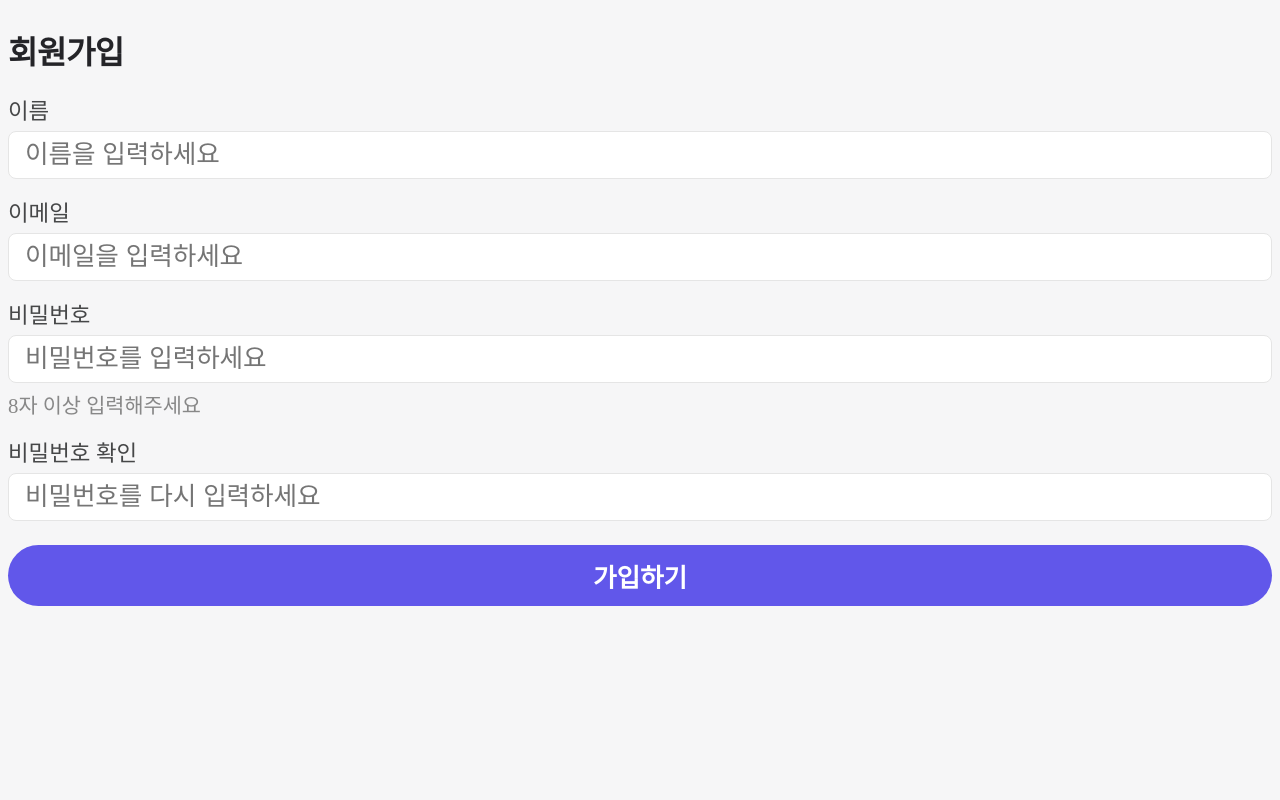
Test: RegisterForm › 비밀번호가 일치하지 않으면 에러를 표시하고 제출을 차단한다
The width and height of the screenshot is (1280, 800).
Type "테스트" into the field labelled "이름". click: x=640, y=154
box: [8,130,1272,178]
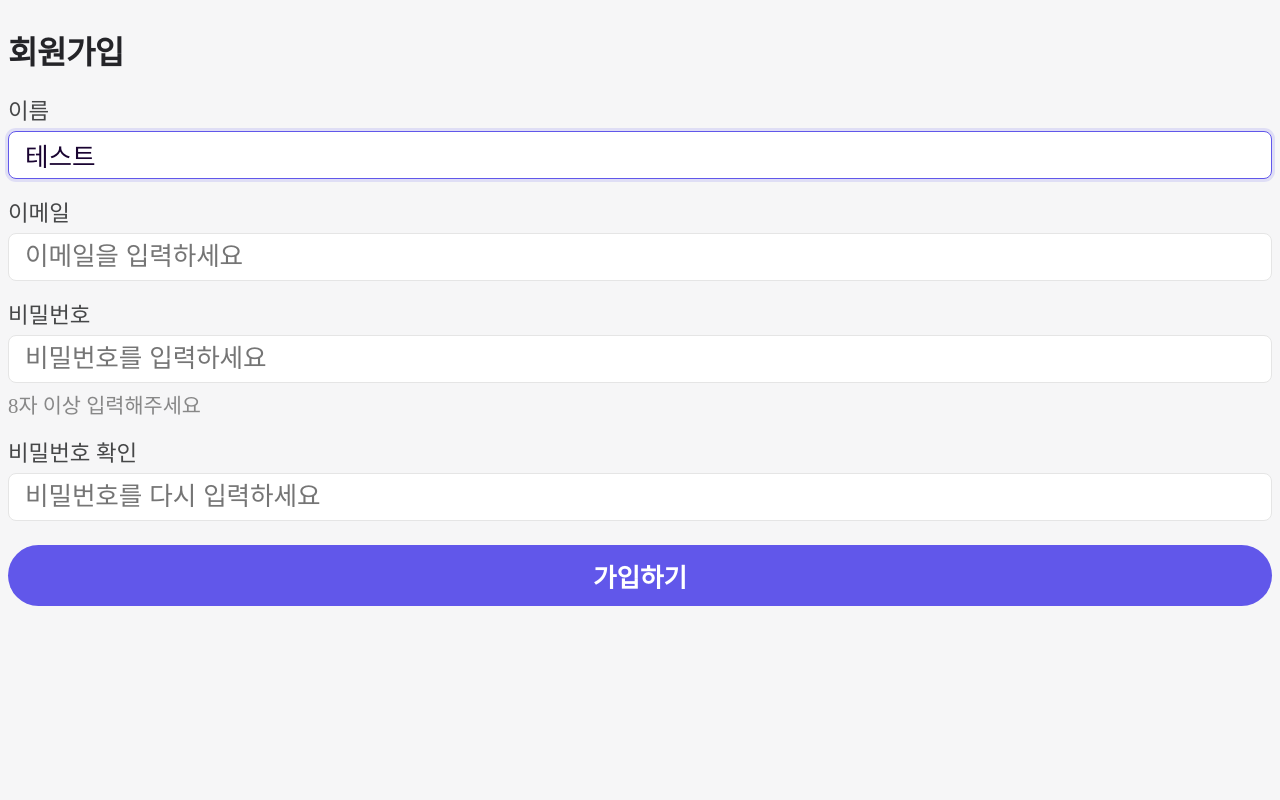
Type "test@example.com" into the field labelled "이메일". click: x=640, y=256
box: [8,232,1272,280]
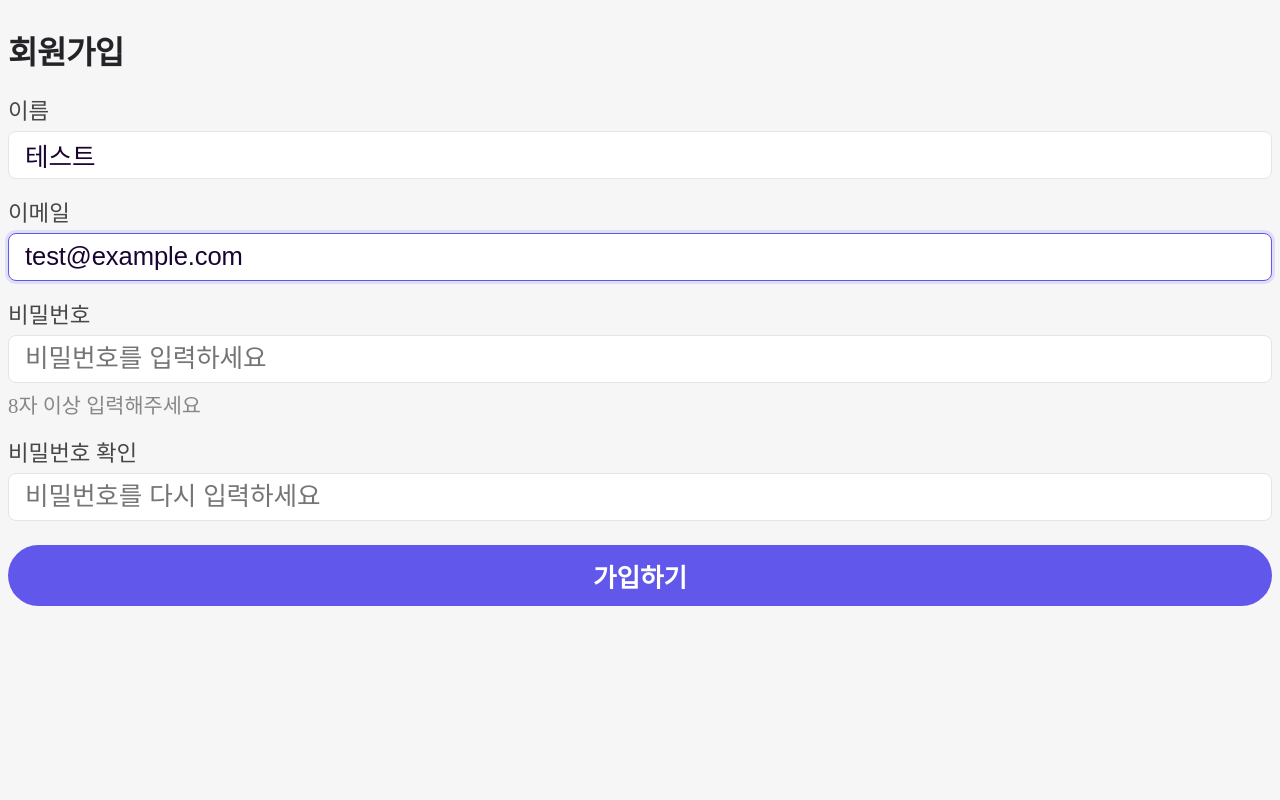
Type "password123" into the password field labelled "비밀번호". click: x=640, y=358
box: [8,334,1272,382]
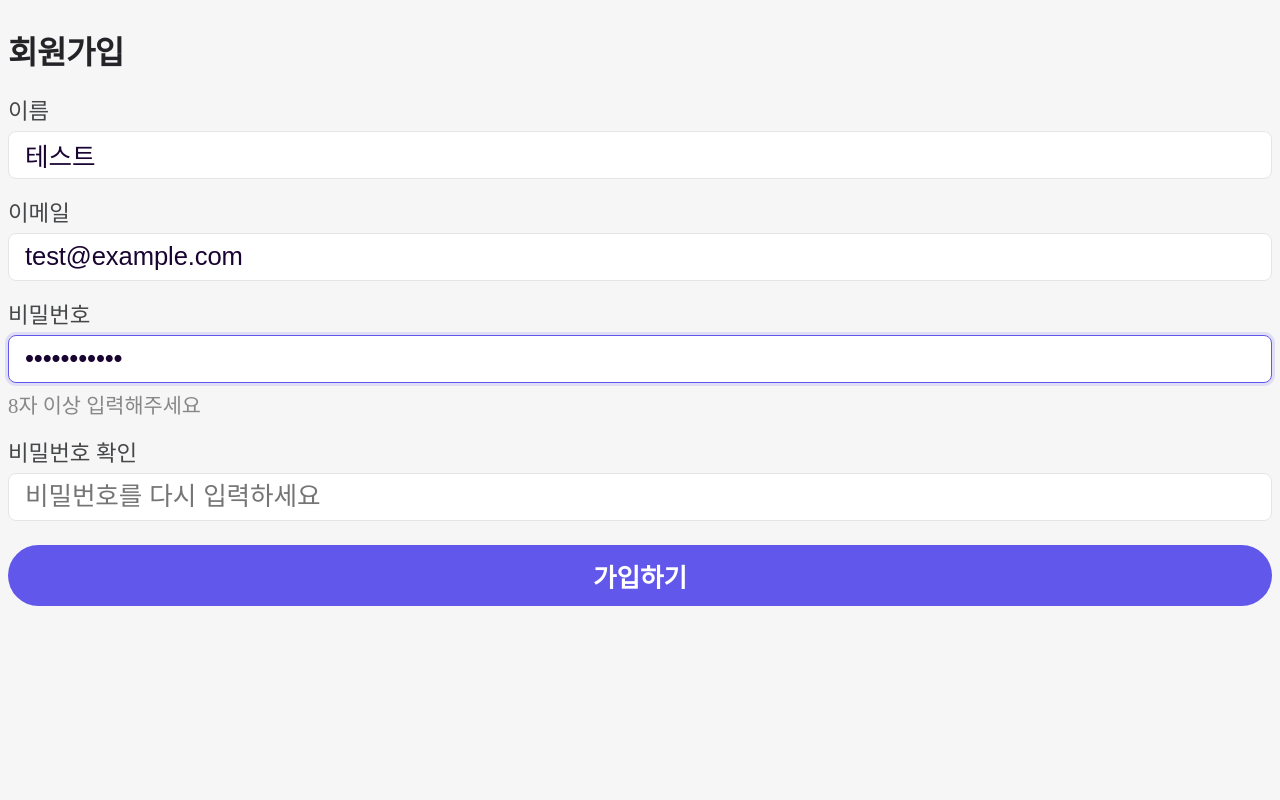
Type "different123" into the password field labelled "비밀번호 확인". click: x=640, y=496
box: [8,472,1272,520]
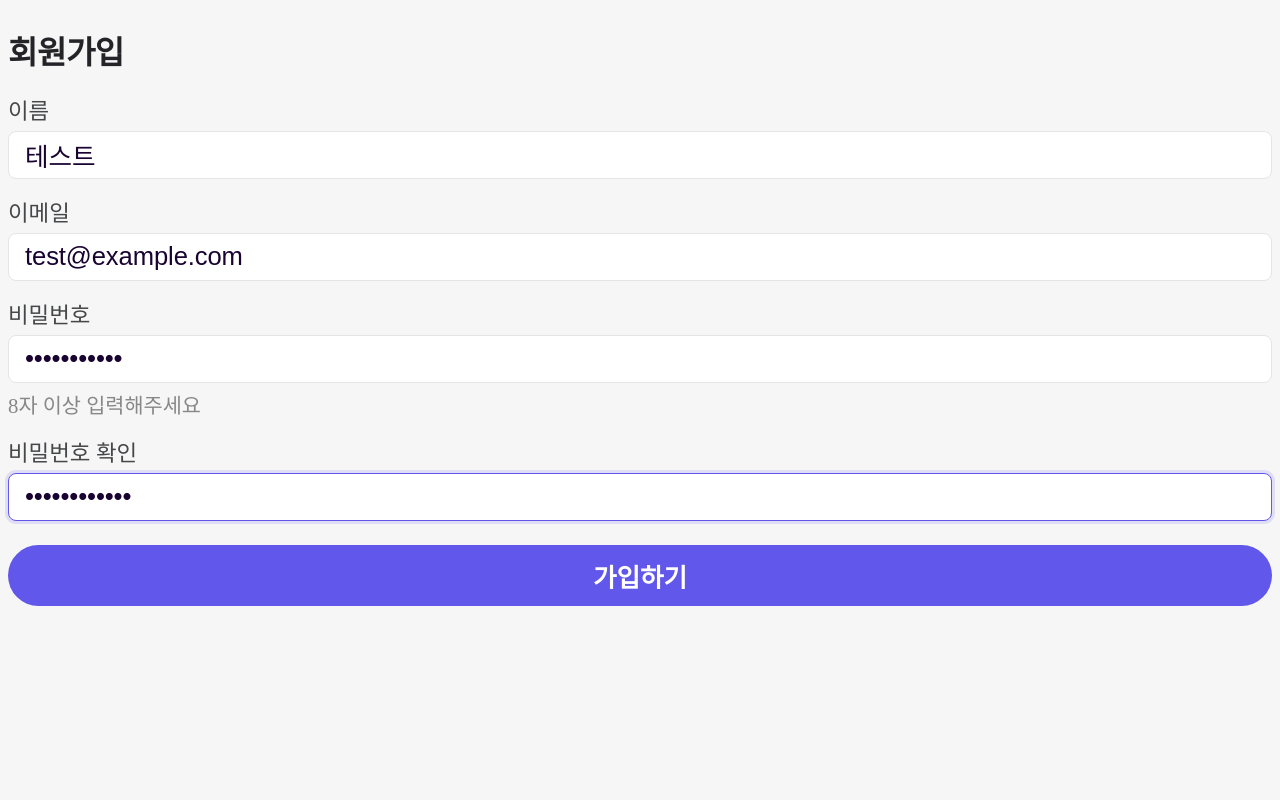
Click the button "가입하기". click: x=640, y=575
box: [8,544,1272,606]
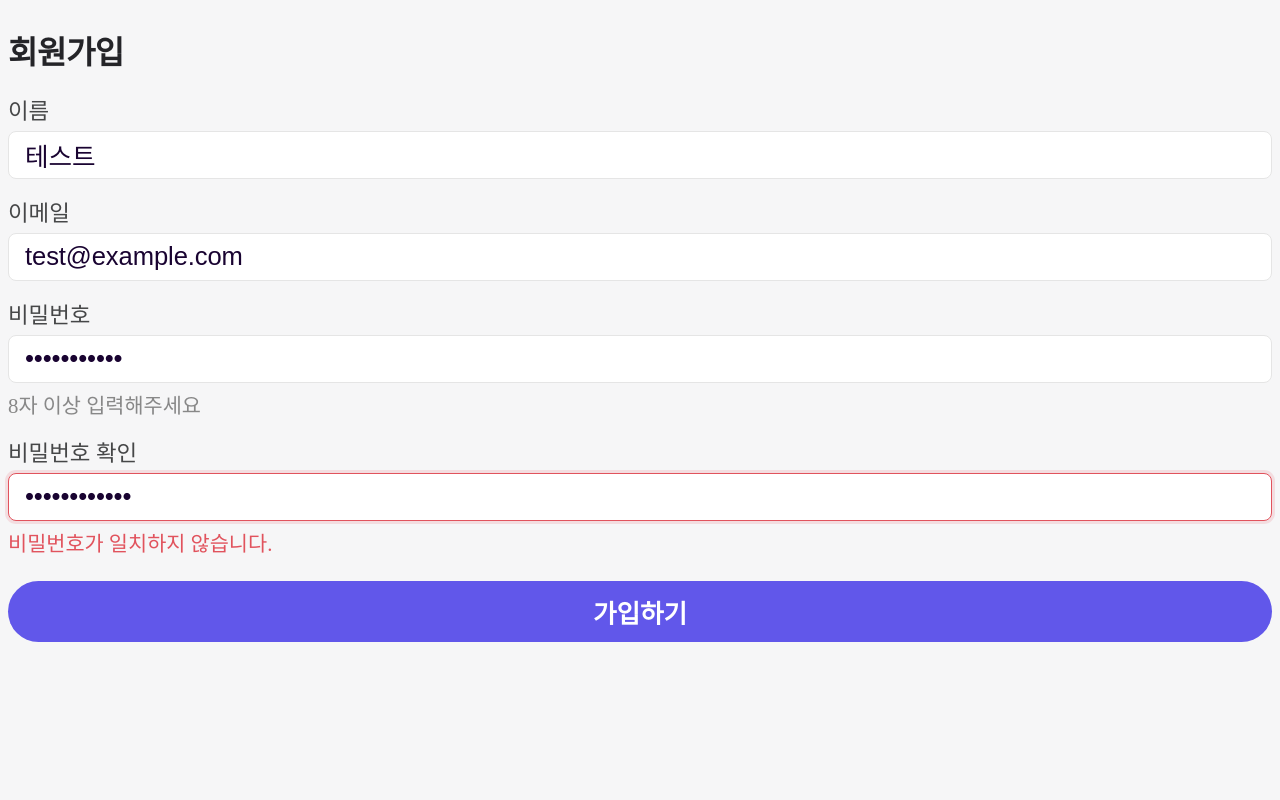
Check: the text "비밀번호가 일치하지 않습니다." is shown, box [8,532,272,554]
